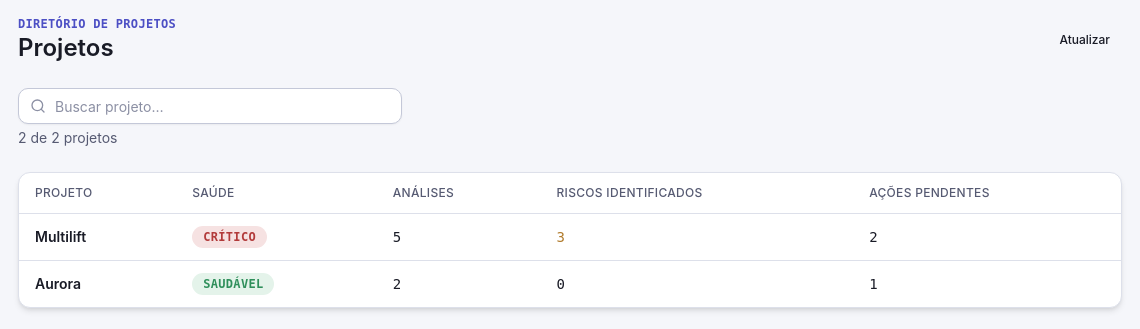
Test: ProjectsPage › busca client-side › filters the list by project name as the user types, case-insensitive
Type "aurora" into the search field labelled "Buscar projeto" at (210, 106), box [18,88,402,124]
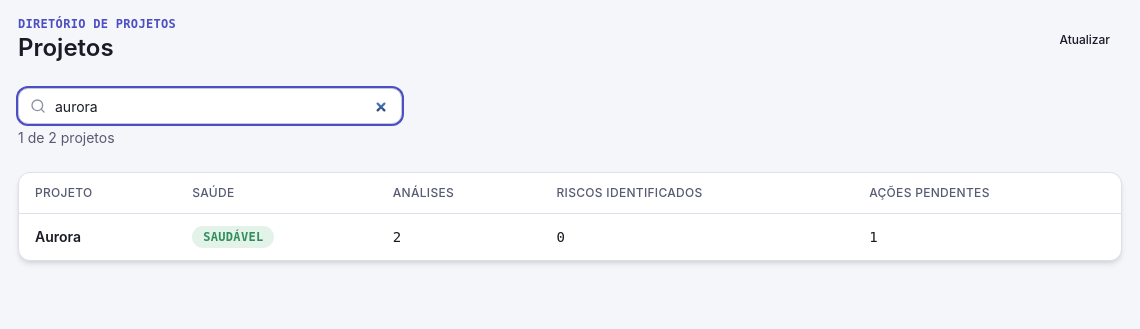
Check: the link "Aurora" is shown, box [35,228,81,245]
Check: the link "Multilift" is gone
Check: the text "1 de 2 projetos" is shown, box [18,129,115,146]
